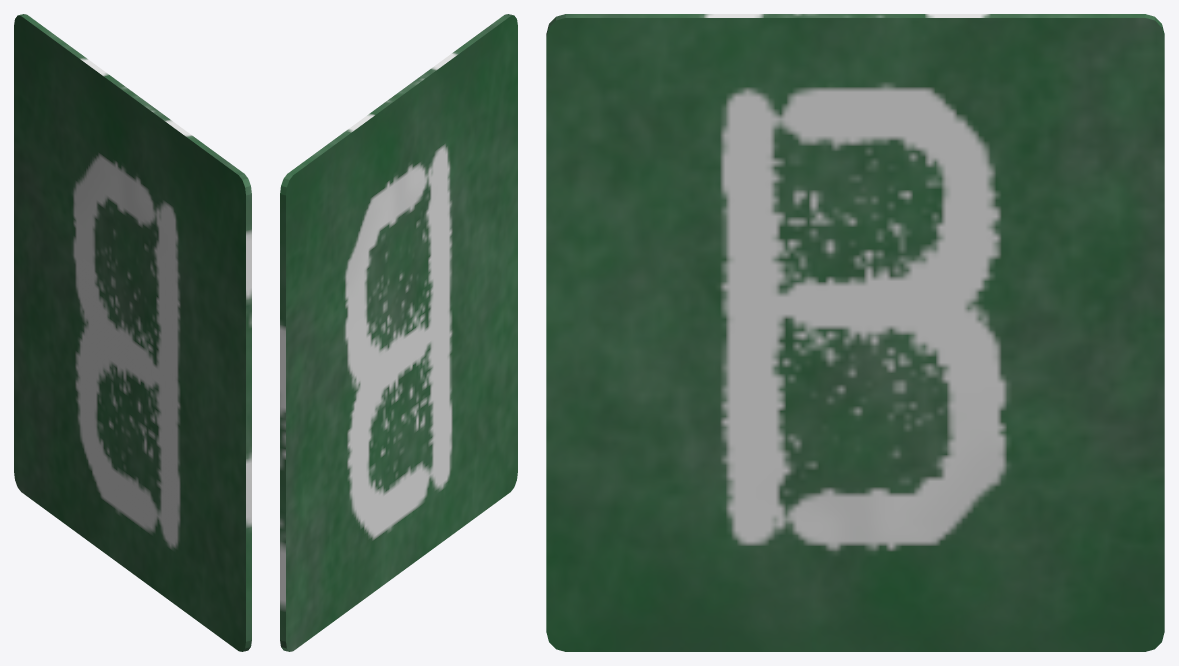
File: DecalB.fbx
3 views of the same model, side by side, from view 1: azimuth 30°, elevation 25°; view 2: azimuth 150°, elevation 25°; view 3: azimuth 270°, elevation 25° (orthographic). The views are drawn at different scales.
Visible parts, largest first — view 1: DecalB; view 2: DecalB; view 3: DecalB.
Boxes of the visible parts, bbox=[...] form: DecalB: bbox=[14, 14, 251, 651]; DecalB: bbox=[280, 14, 517, 651]; DecalB: bbox=[546, 14, 1164, 651].
Bounding box in the file's own units: 5.01e-05 × 0.00385 × 0.0034.
